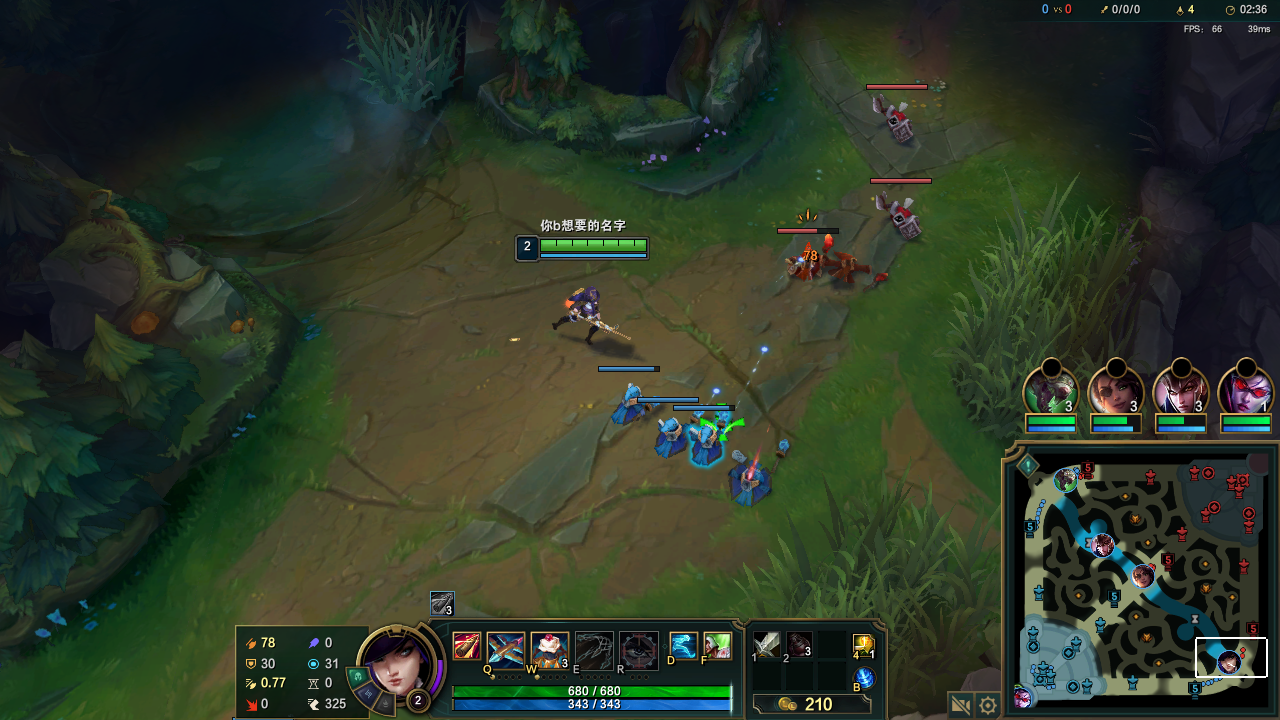DFXB: (869, 185, 923, 240), (784, 234, 839, 286), (867, 93, 914, 144)
WFXB: (688, 413, 728, 468), (608, 385, 655, 428), (652, 416, 688, 457)
Yita: (1187, 677, 1203, 702)
